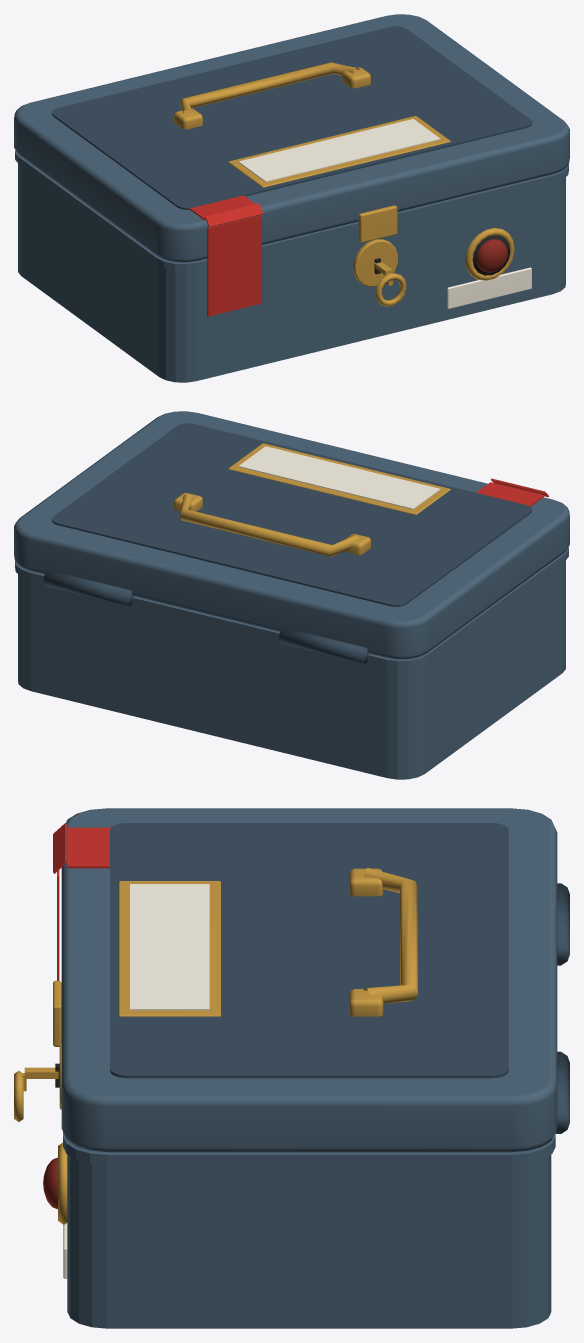
The model's file is RmCashBox.fbx.
3 views of the same model, one above another, from view 1: azimuth 30°, elevation 25°; view 2: azimuth 150°, elevation 25°; view 3: azimuth 270°, elevation 25° (orthographic). The views are drawn at different scales.
Parts seen in each view (by area): view 1: CashLid, RmCashBoxBody, CashSeal, AlarmButton; view 2: CashLid, RmCashBoxBody, CashSeal; view 3: CashLid, RmCashBoxBody, CashSeal.
Part boxes in pixels (box(x1,y1,x2,y2)): CashLid: box(14, 14, 569, 262); RmCashBoxBody: box(15, 150, 568, 382); CashSeal: box(189, 195, 263, 316); AlarmButton: box(476, 239, 507, 272); CashLid: box(14, 411, 569, 659); RmCashBoxBody: box(15, 547, 568, 779); CashSeal: box(476, 478, 548, 506); CashLid: box(53, 808, 557, 1152); RmCashBoxBody: box(14, 883, 569, 1328); CashSeal: box(53, 823, 110, 980).
Bounding box in the file's own units: 0.244 × 0.1012 × 0.1952.
